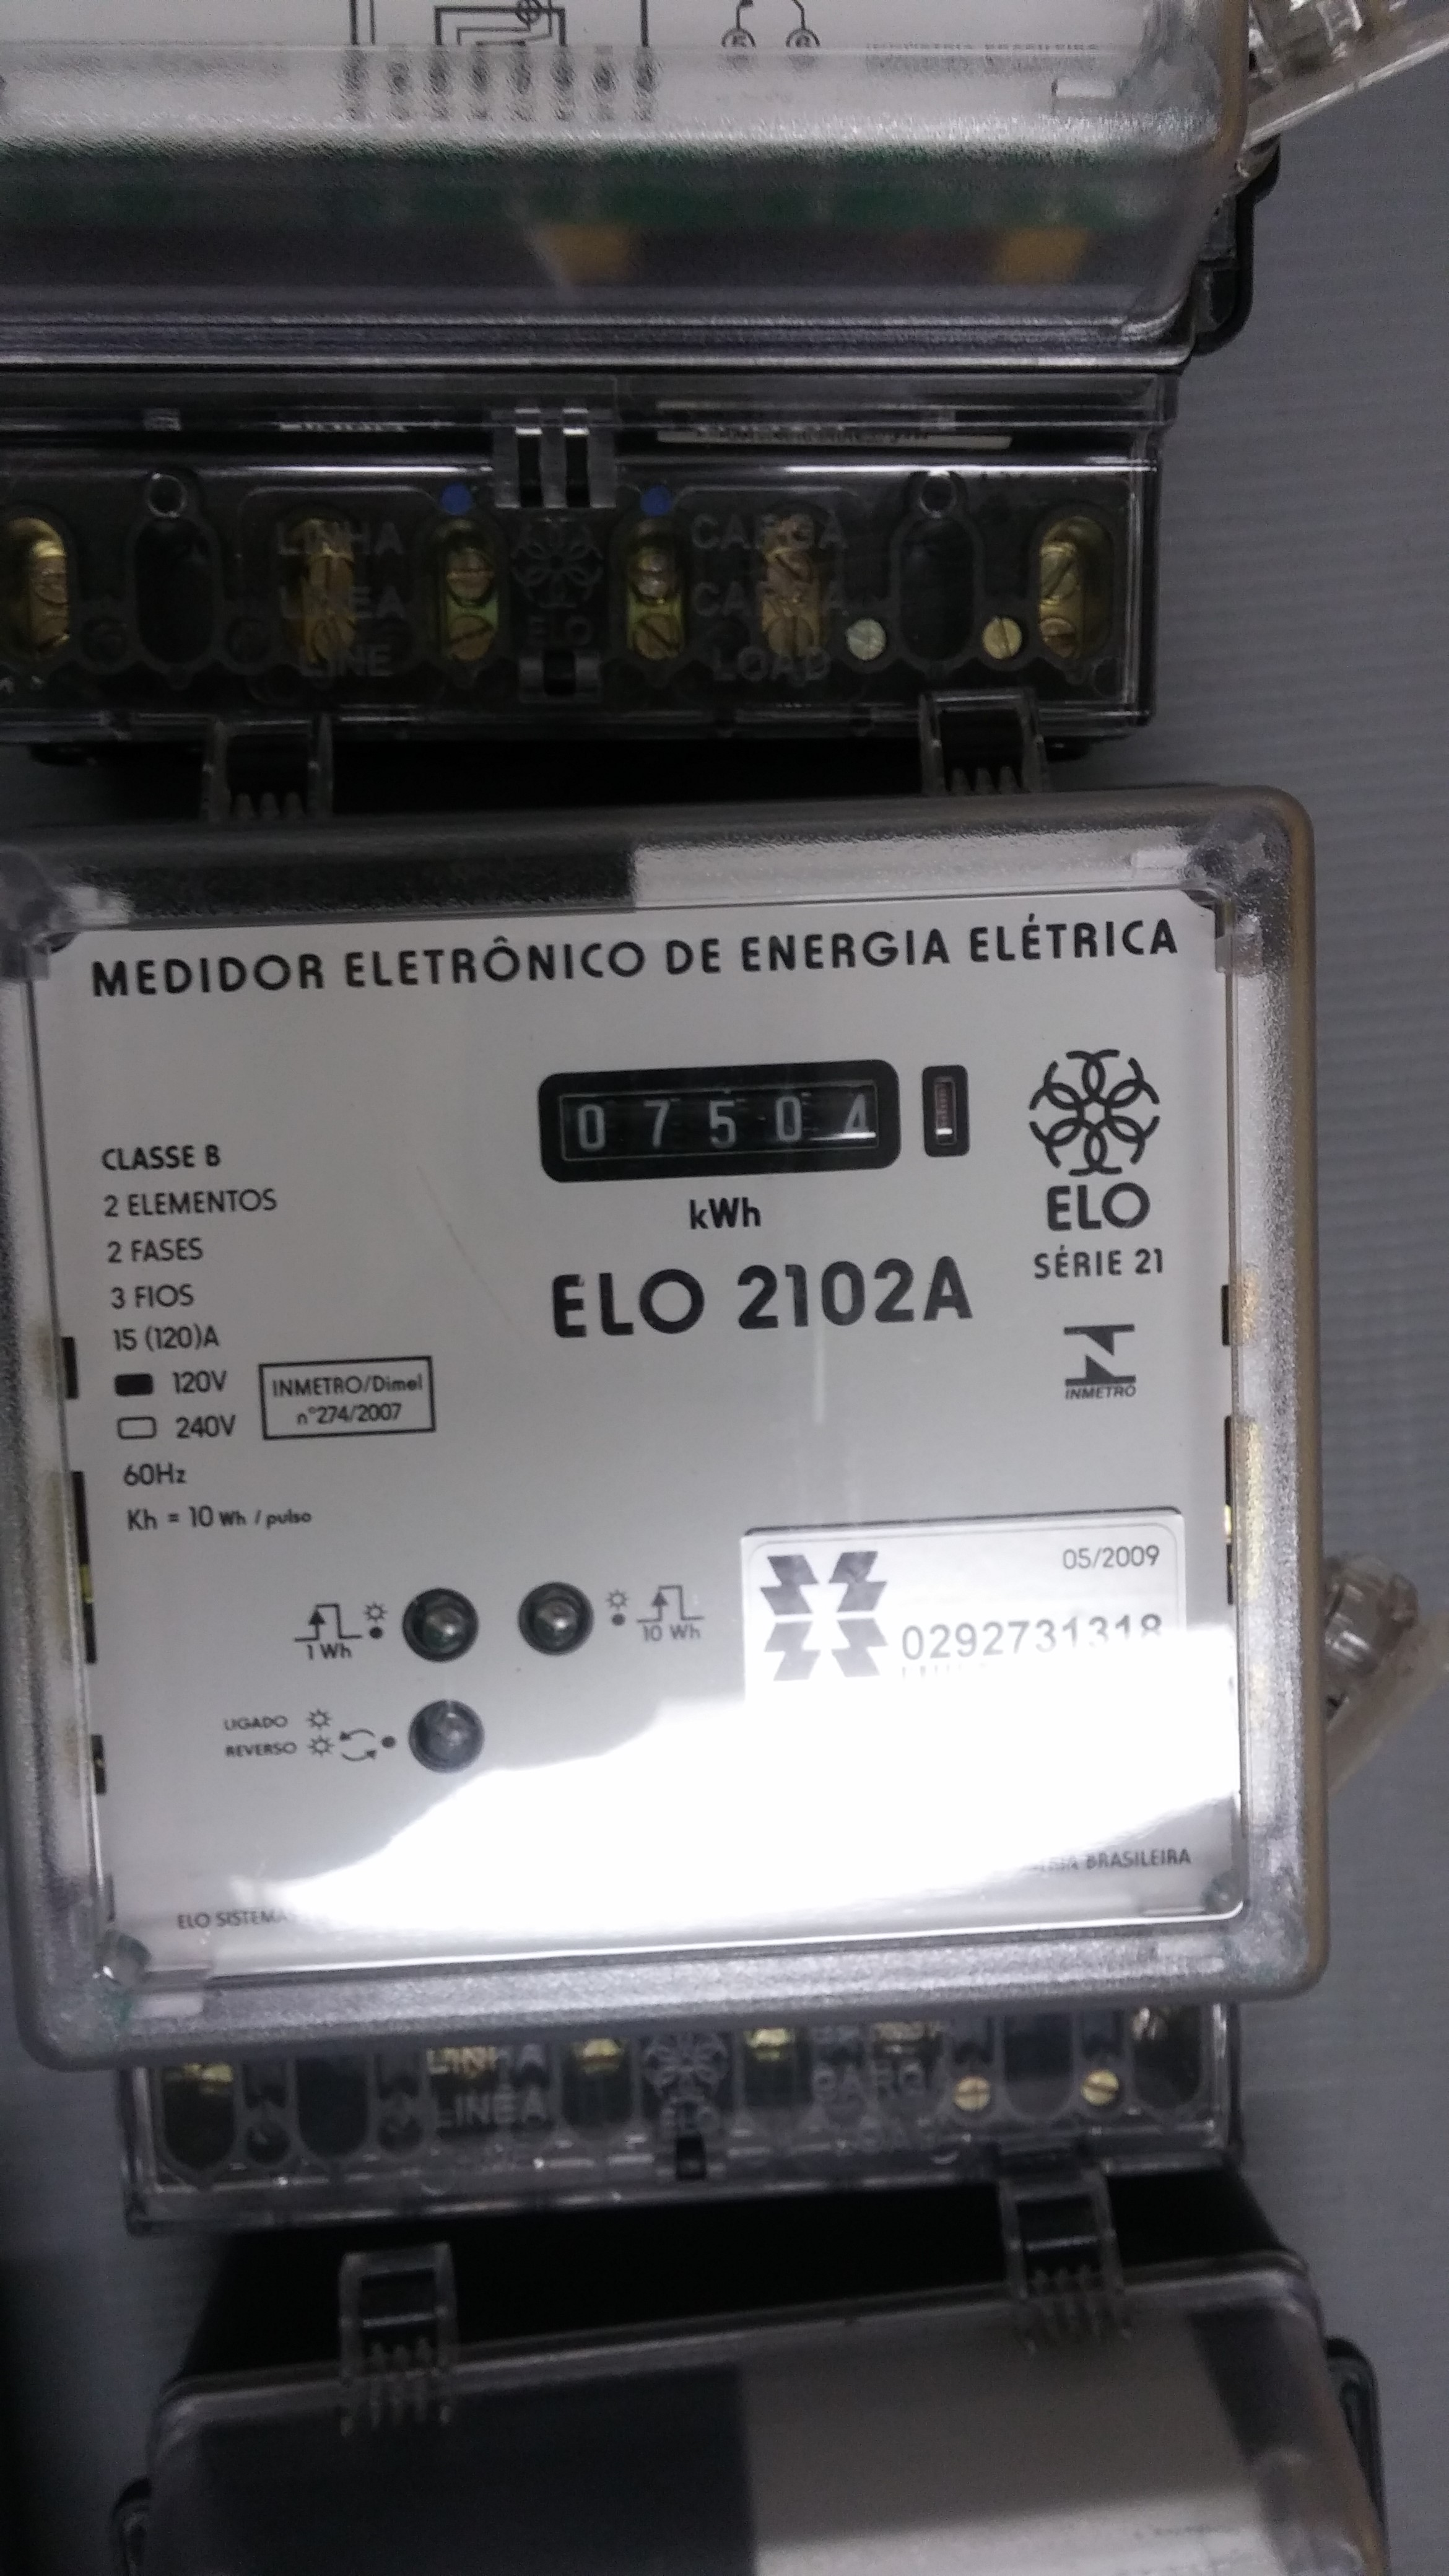counter2: (545, 1063, 897, 1180)
